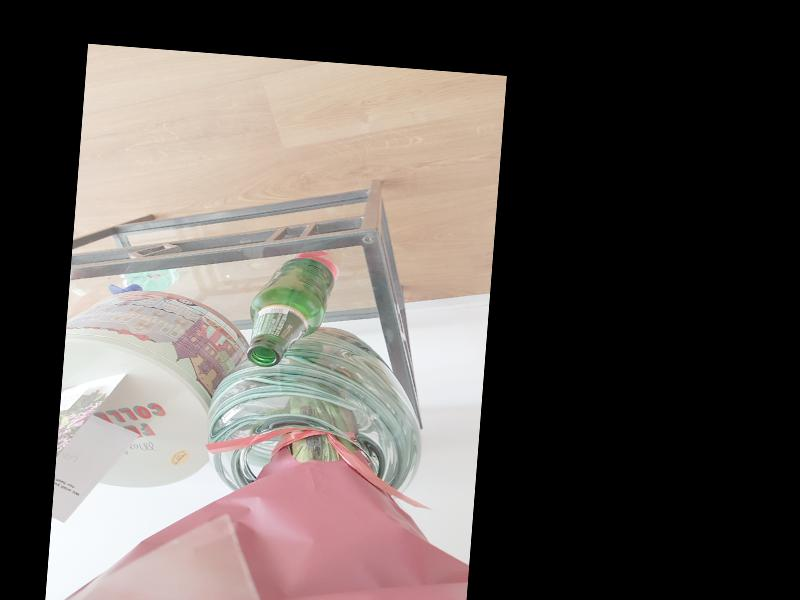Beer: (245, 254, 336, 371)
